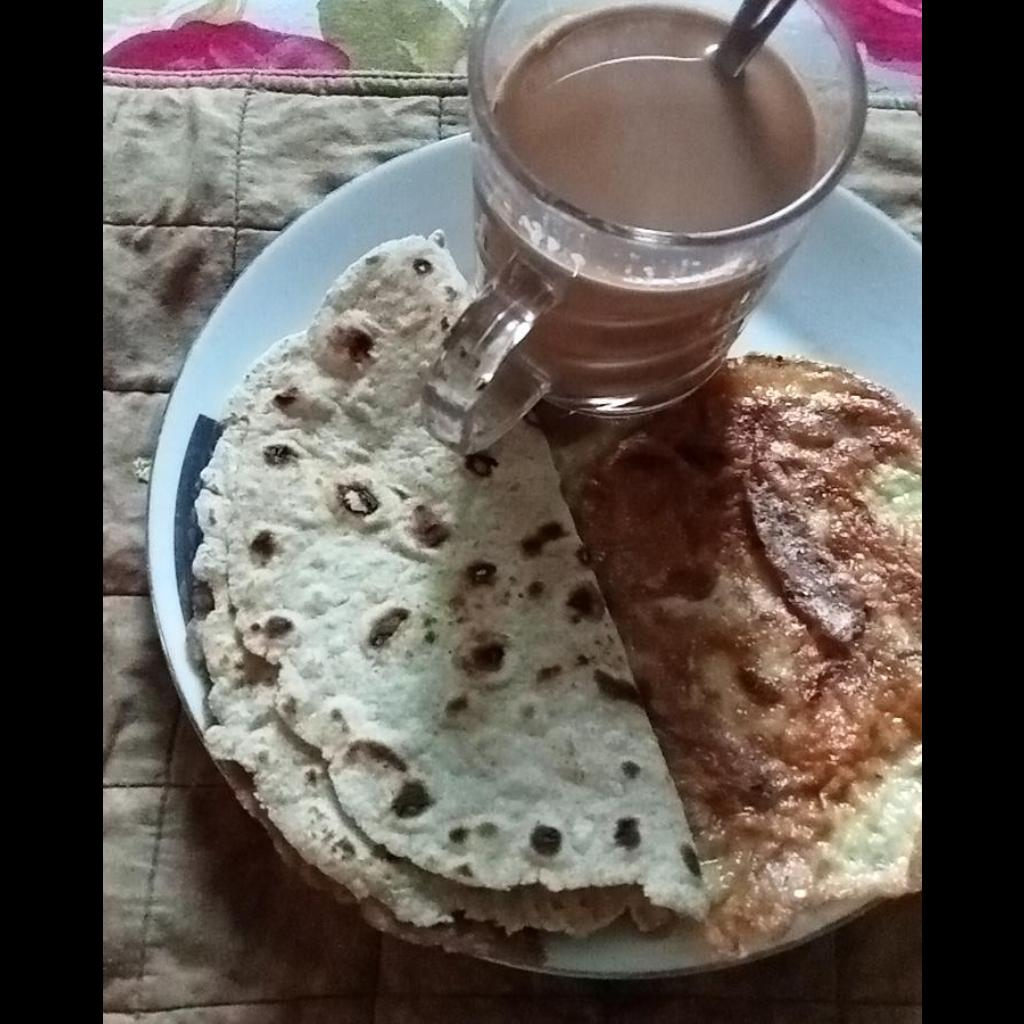cha: (494, 9, 822, 230)
egg-poached: (558, 354, 920, 954)
ruti: (183, 235, 711, 941)
